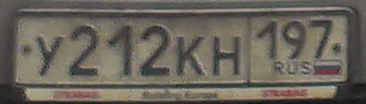character: (137, 22, 174, 79), (67, 22, 103, 78), (107, 21, 137, 78), (175, 31, 208, 77), (210, 32, 243, 77), (35, 31, 64, 78), (281, 17, 309, 63), (308, 17, 335, 60), (255, 19, 281, 62)
